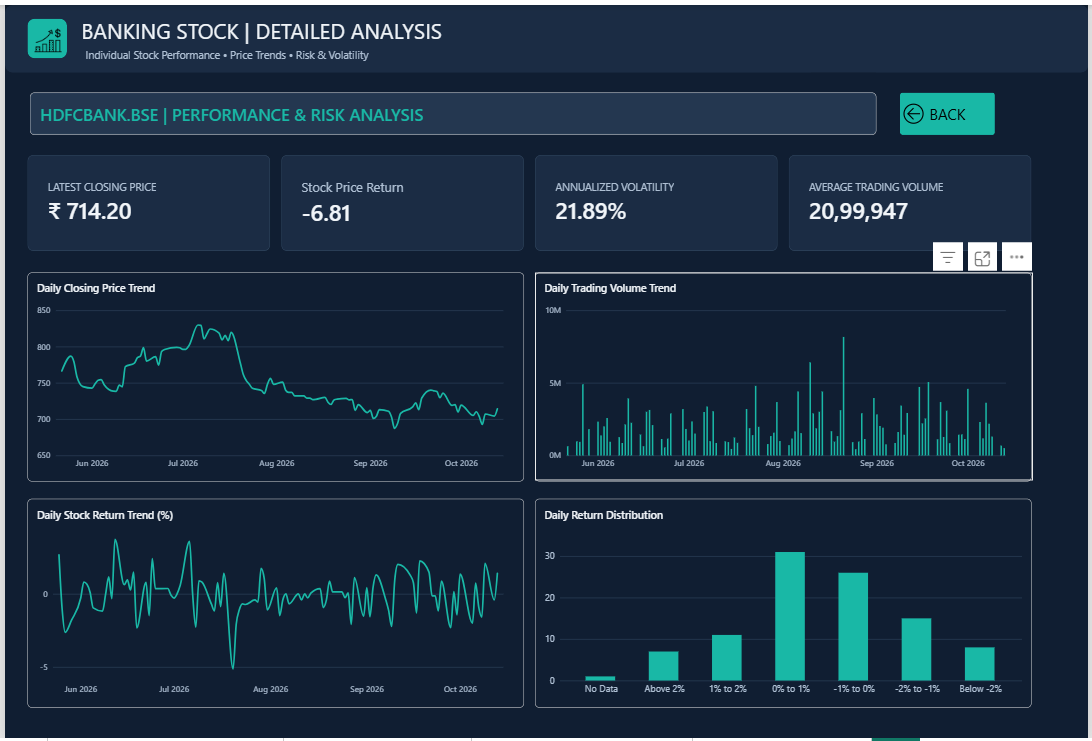

What the dashboard file says about the page in this screenshot:
{"tool":"powerbi","page":{"name":"04_Stock_Drillthrough","canvas":[1920,1300],"ordinal":3},"visuals":[{"type":"shape","box":[0,0,1920,120],"z":0},{"type":"textbox","box":[135,20,1050,50],"z":1000},{"type":"textbox","box":[137,75,1200,32],"z":2000},{"type":"shape","box":[40,25,70,70],"z":3000},{"type":"shape","box":[40,265,430,170],"z":23000},{"type":"actionButton","box":[1586.2,155.1,168.4,75.3],"z":37000},{"type":"cardVisual","fields":{"Data":["_Measures_Stocks.Selected Stock Drillthrough Title"]},"box":[45,155,1500,75],"z":37001},{"type":"shape","box":[490,265,430,170],"z":37002},{"type":"shape","box":[940,265,430,170],"z":37003},{"type":"shape","box":[1390,265,430,170],"z":37004},{"type":"cardVisual","fields":{"Data":["_Measures_Stocks.Latest Stock Closing Price"]},"box":[60,285,390,130],"z":37005},{"type":"cardVisual","fields":{"Data":["_Measures_Stocks.Stock Price Return %"]},"box":[510,285,390,130],"z":37006},{"type":"cardVisual","fields":{"Data":["_Measures_Stocks.Stock Volatility Corrected %"]},"box":[960,285,390,130],"z":37007},{"type":"cardVisual","fields":{"Data":["_Measures_Stocks.Average Trading Volume"]},"box":[1410,285,390,130],"z":37008},{"type":"lineChart","title":"Daily Closing Price Trend","fields":{"Category":["stock_daily_analytics.observation_date"],"Y":["Sum(stock_daily_analytics.close_price)"]},"box":[40,475,880,370],"z":37009},{"type":"clusteredColumnChart","title":"Daily Trading Volume Trend","fields":{"Category":["stock_daily_analytics.observation_date"],"Y":["Sum(stock_daily_analytics.volume)"]},"box":[940,475,880,370],"z":37010},{"type":"lineChart","title":"Daily Stock Return Trend (%)","fields":{"Category":["stock_daily_analytics.observation_date"],"Y":["Sum(stock_daily_analytics.daily_return_pct)"]},"box":[40,875,880,370],"z":37011},{"type":"clusteredColumnChart","title":"Daily Return Distribution","fields":{"Category":["stock_daily_analytics.Daily Return Category"],"Y":["CountNonNull(stock_daily_analytics.observation_date)"]},"box":[940,875,880,370],"z":37012}]}

Visuals, with their boxes in screenshot pixels (x1, y1, x2, y2), scaled from the page's 1920x1300 canvas onto the 1092x741 screenshot:
shape: x1=0 y1=0 x2=1091 y2=68
textbox: x1=77 y1=11 x2=674 y2=40
textbox: x1=78 y1=43 x2=760 y2=61
shape: x1=23 y1=14 x2=63 y2=54
shape: x1=23 y1=151 x2=267 y2=248
actionButton: x1=902 y1=88 x2=998 y2=131
cardVisual - _Measures_Stocks.Selected Stock Drillthrough Title: x1=26 y1=88 x2=879 y2=131
shape: x1=279 y1=151 x2=523 y2=248
shape: x1=535 y1=151 x2=779 y2=248
shape: x1=791 y1=151 x2=1035 y2=248
cardVisual - _Measures_Stocks.Latest Stock Closing Price: x1=34 y1=162 x2=256 y2=237
cardVisual - _Measures_Stocks.Stock Price Return %: x1=290 y1=162 x2=512 y2=237
cardVisual - _Measures_Stocks.Stock Volatility Corrected %: x1=546 y1=162 x2=768 y2=237
cardVisual - _Measures_Stocks.Average Trading Volume: x1=802 y1=162 x2=1024 y2=237
"Daily Closing Price Trend" lineChart: x1=23 y1=271 x2=523 y2=482
"Daily Trading Volume Trend" clusteredColumnChart: x1=535 y1=271 x2=1035 y2=482
"Daily Stock Return Trend (%)" lineChart: x1=23 y1=499 x2=523 y2=710
"Daily Return Distribution" clusteredColumnChart: x1=535 y1=499 x2=1035 y2=710
